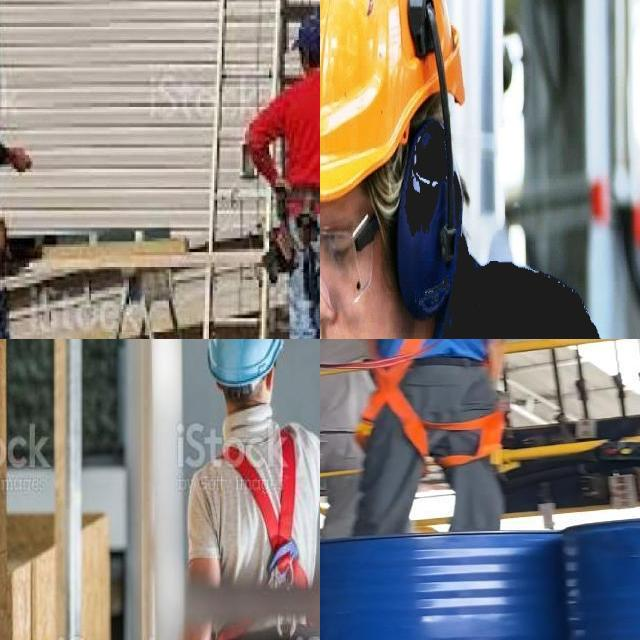Ear-protection: (391, 0, 464, 325)
Harness: (347, 339, 513, 480), (225, 430, 320, 640)
head_helmet: (320, 0, 481, 211)
